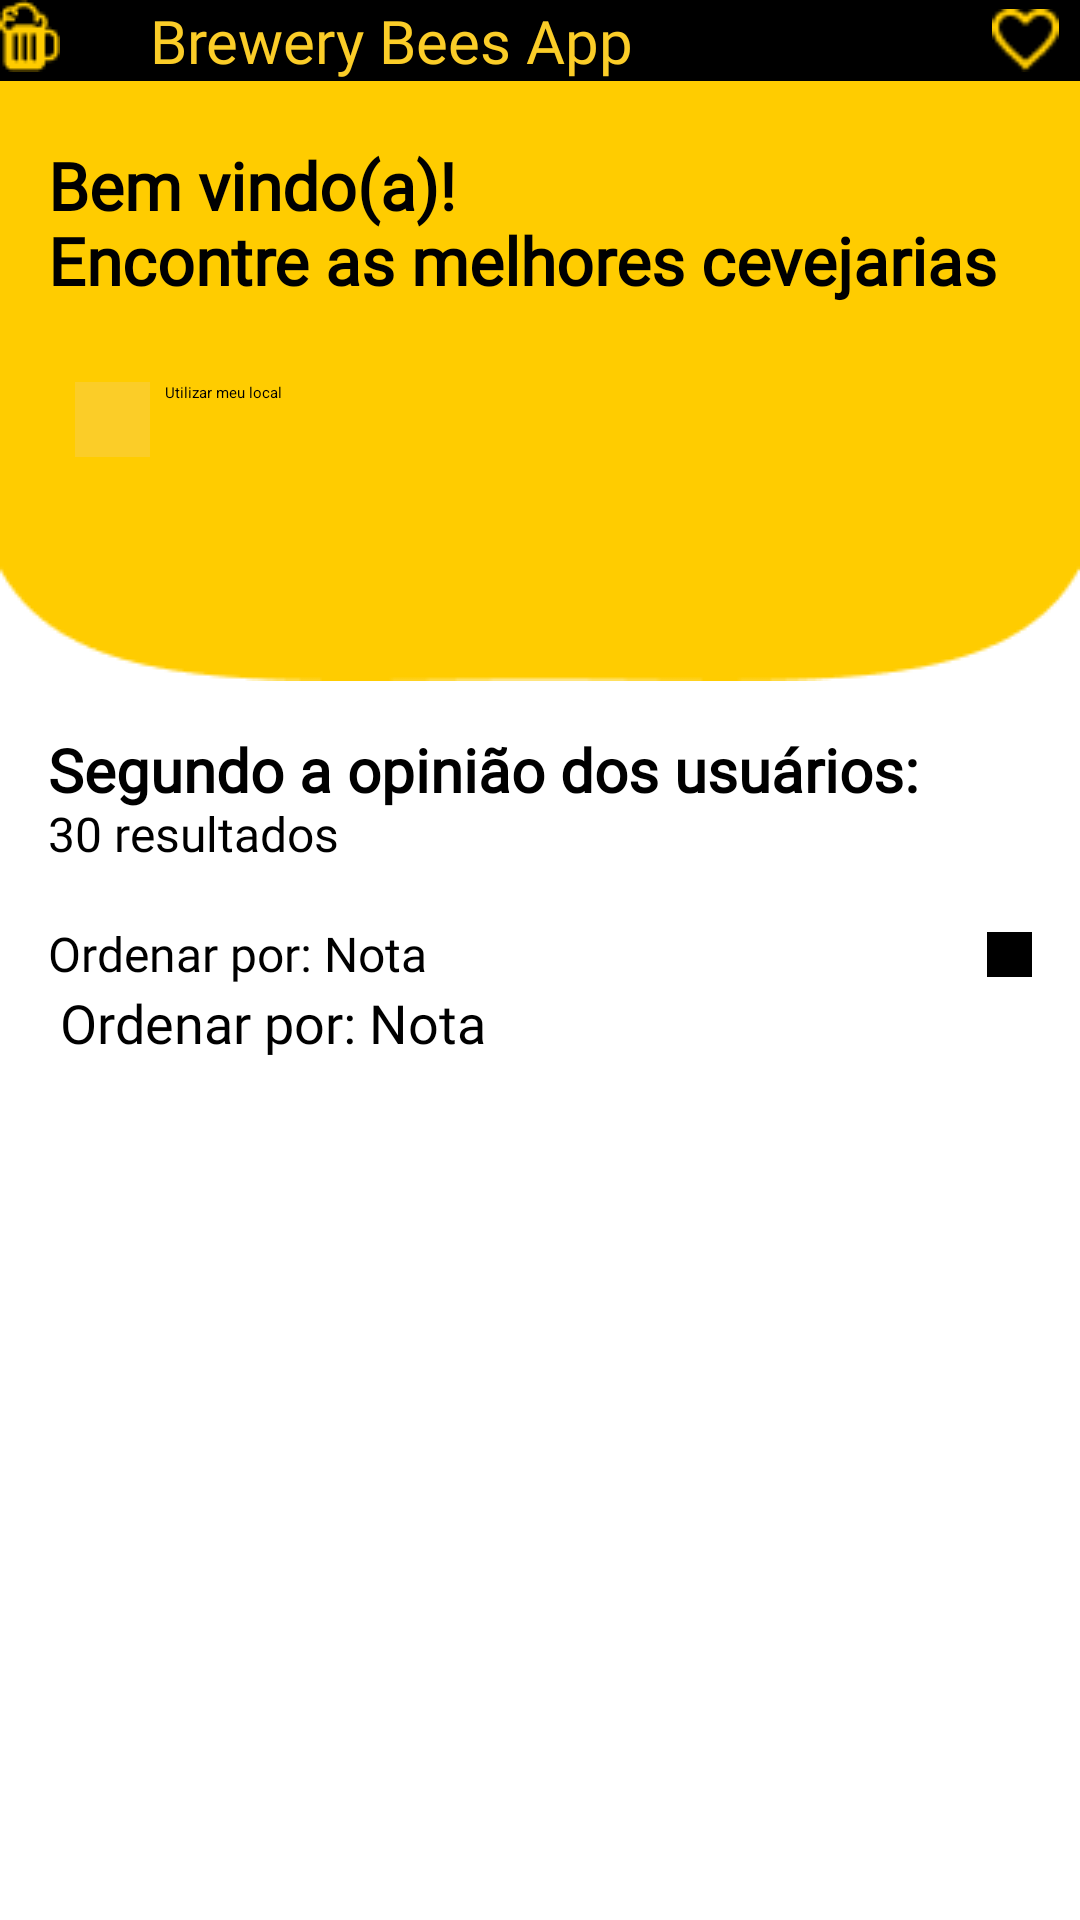

Icon click points for this 1080px×1920px phone screenshot, format (x,y):
heart toolbar: (1025,40)
